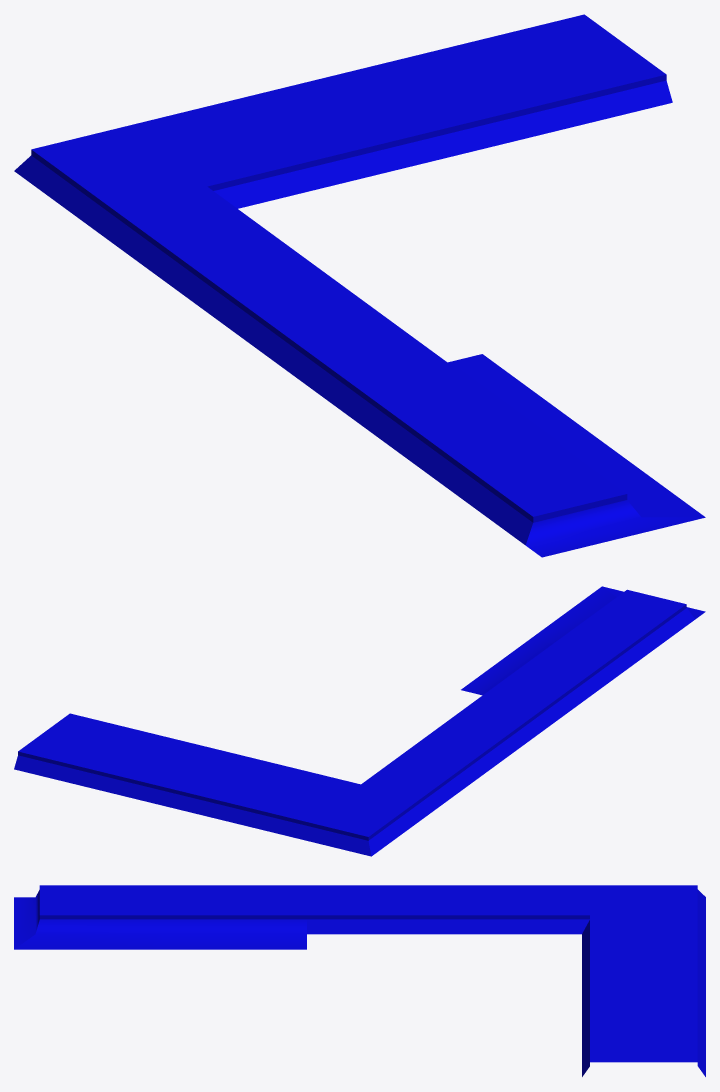
File: HallCeiling.fbx
The picture shows the model from 3 angles, top to bottom: view 1: azimuth 30°, elevation 25°; view 2: azimuth 150°, elevation 25°; view 3: azimuth 270°, elevation 25°; orthographic projection. The views are drawn at different scales.
Parts seen in each view (by area): view 1: HallCeiling; view 2: HallCeiling; view 3: HallCeiling.
Boxes of the visible parts, left/top/right/bottom form: HallCeiling: left=14, top=14, right=705, bottom=557; HallCeiling: left=14, top=586, right=705, bottom=856; HallCeiling: left=14, top=885, right=705, bottom=1076.
Size of the model in its own units: 1266 by 50.61 by 2052.
